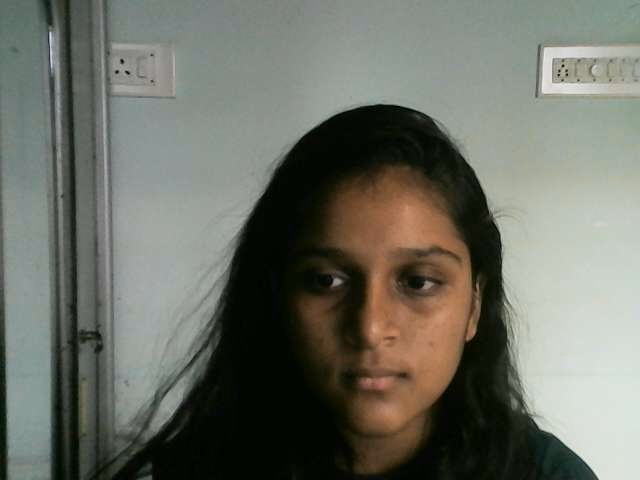face: (283, 165, 473, 436)
